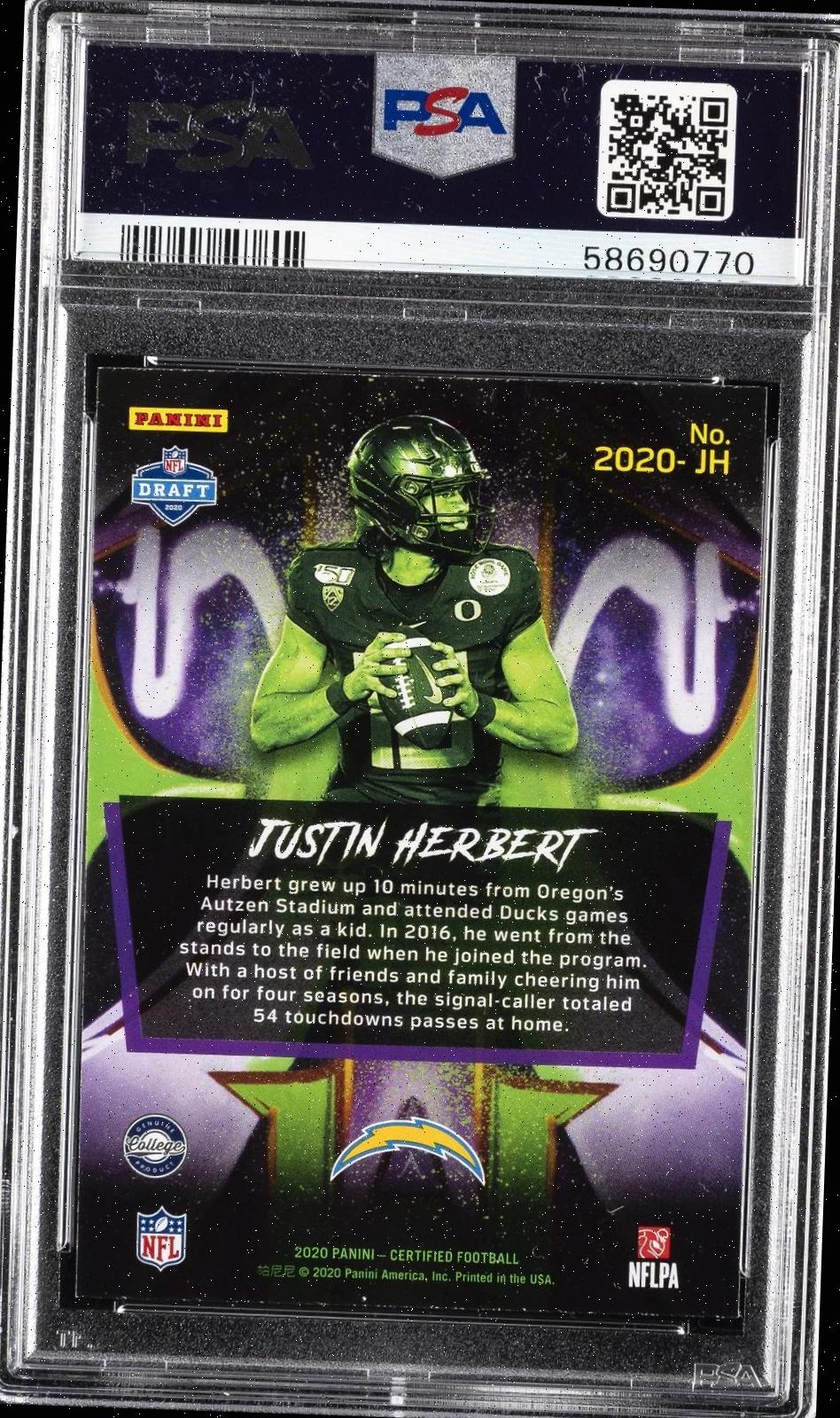card-2UtV: (74, 365, 769, 1319)
